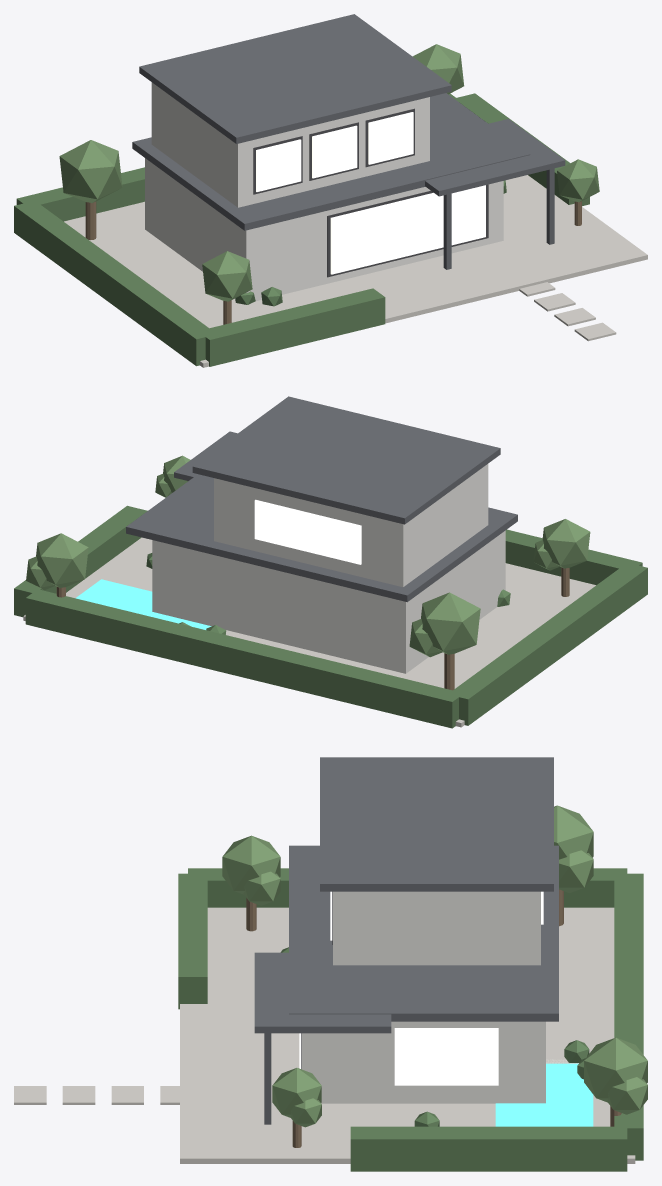
File: casa.glb
3 views of the same model, one above another, from view 1: azimuth 30°, elevation 25°; view 2: azimuth 150°, elevation 25°; view 3: azimuth 270°, elevation 25° (orthographic). The views are drawn at different scales.
Parts seen in each view (by area): view 1: Plataforma, LosaCubierta, VolBajo, LosaInter, VolAlto, Seto0, VentBaja, Seto3, Porche, Copa1a, Seto2, VentAlta1 (+10 smaller); view 2: VolBajo, LosaCubierta, Seto2, VolAlto, Plataforma, LosaInter, Seto0, VentTras, Copa1a, Seto1, Seto3, Copa3a (+6 smaller); view 3: Plataforma, LosaCubierta, LosaInter, VolAlto, Seto1, VolBajo, VentLado, Seto2, Porche, Agua, Seto3, Seto0 (+12 smaller).
Boxes of the visible parts, x1,y1,x2,y2 form: Plataforma: (64,175,647,367); LosaCubierta: (139,14,451,143); VolBajo: (145,158,503,300); LosaInter: (132,93,530,230); VolAlto: (151,82,429,207); Seto0: (14,201,212,366); VentBaja: (330,185,485,274); Seto3: (198,288,385,366); Porche: (425,119,565,196); Copa1a: (59,140,122,202); Seto2: (16,93,460,221); VentAlta1: (312,125,357,178); VolBajo: (152,530,505,673); LosaCubierta: (192,396,500,524); Seto2: (25,589,463,728); VolAlto: (214,464,488,586); Plataforma: (23,537,595,727); LosaInter: (126,474,517,602); Seto0: (448,563,647,725); VentTras: (254,499,361,564); Copa1a: (421,592,480,654); Seto1: (14,505,147,617); Seto3: (505,529,642,585); Copa3a: (36,533,88,587); Plataforma: (180,907,635,1163); LosaCubierta: (320,757,553,891); LosaInter: (289,845,558,1021); VolAlto: (333,891,540,965); Seto1: (350,1126,627,1171); VolBajo: (302,1021,545,1103); VentLado: (394,1028,498,1085); Seto2: (614,873,643,1160); Porche: (254,952,391,1033); Agua: (495,1063,593,1126); Seto3: (178,873,207,1009); Seto0: (188,868,627,907).
Size of what is drawn, in the model's own units: 19.7 by 6.85 by 19.48.
